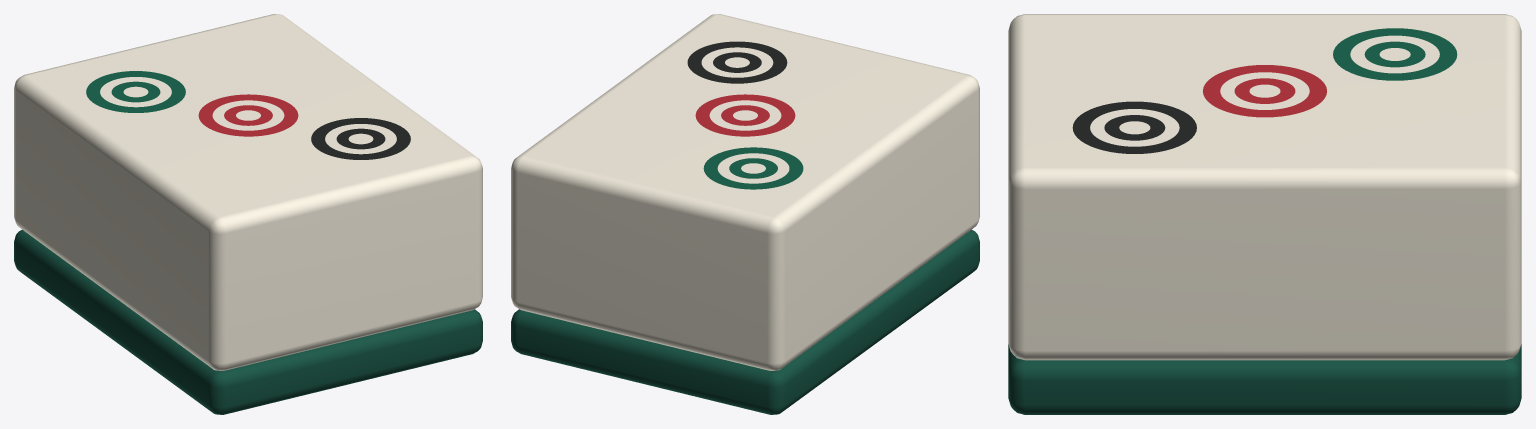
The model's file is tong-03.glb.
3 renders of one model, left to right at view 1: azimuth 30°, elevation 25°; view 2: azimuth 150°, elevation 25°; view 3: azimuth 270°, elevation 25°, orthographic. The views are drawn at different scales.
Visible parts, largest first — view 1: tong-03_ivory, tong-03_back, tong-03_face_inlays; view 2: tong-03_ivory, tong-03_back, tong-03_face_inlays; view 3: tong-03_ivory, tong-03_back, tong-03_face_inlays.
Part boxes in pixels (left/top/right/bottom): tong-03_ivory: left=14, top=14, right=482, bottom=370; tong-03_back: left=14, top=229, right=482, bottom=414; tong-03_face_inlays: left=86, top=71, right=410, bottom=159; tong-03_ivory: left=511, top=14, right=979, bottom=370; tong-03_back: left=511, top=229, right=979, bottom=414; tong-03_face_inlays: left=687, top=41, right=803, bottom=189; tong-03_ivory: left=1008, top=14, right=1521, bottom=360; tong-03_back: left=1008, top=344, right=1521, bottom=414; tong-03_face_inlays: left=1072, top=28, right=1457, bottom=153.
Bounding box in the file's own units: 0.026 × 0.018 × 0.034.
